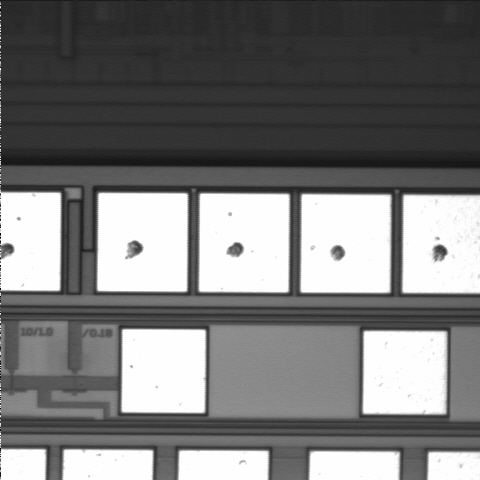pad: (97, 193, 188, 292), (301, 194, 391, 293), (199, 194, 289, 292), (122, 329, 205, 413), (363, 331, 446, 414)
